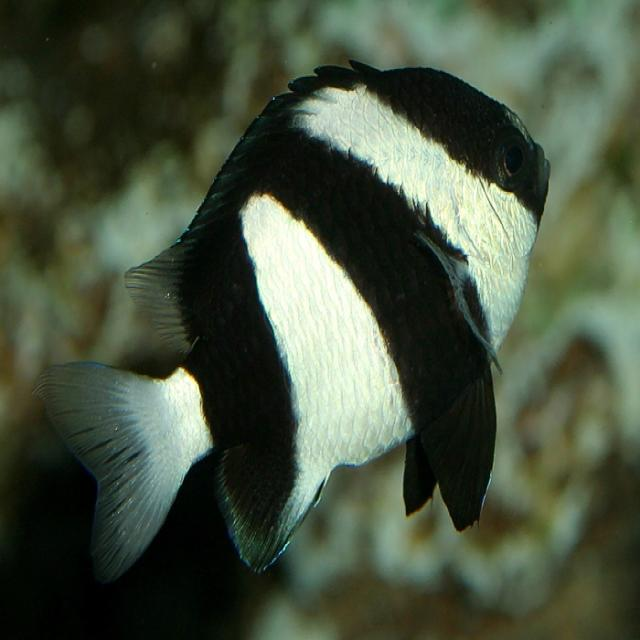ThreeStripedDamselfish: (32, 46, 554, 604)
